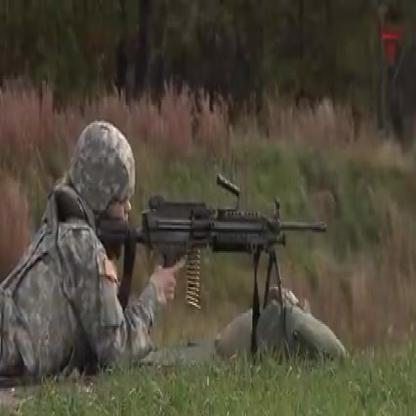Gun: (97, 172, 326, 304)
